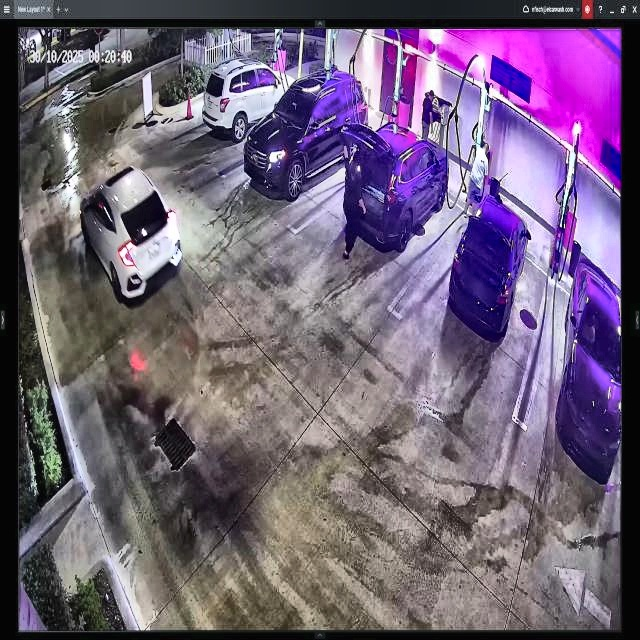Car: (242, 75, 366, 206), (344, 118, 446, 248), (85, 173, 183, 299), (449, 195, 530, 341), (202, 61, 302, 141)
